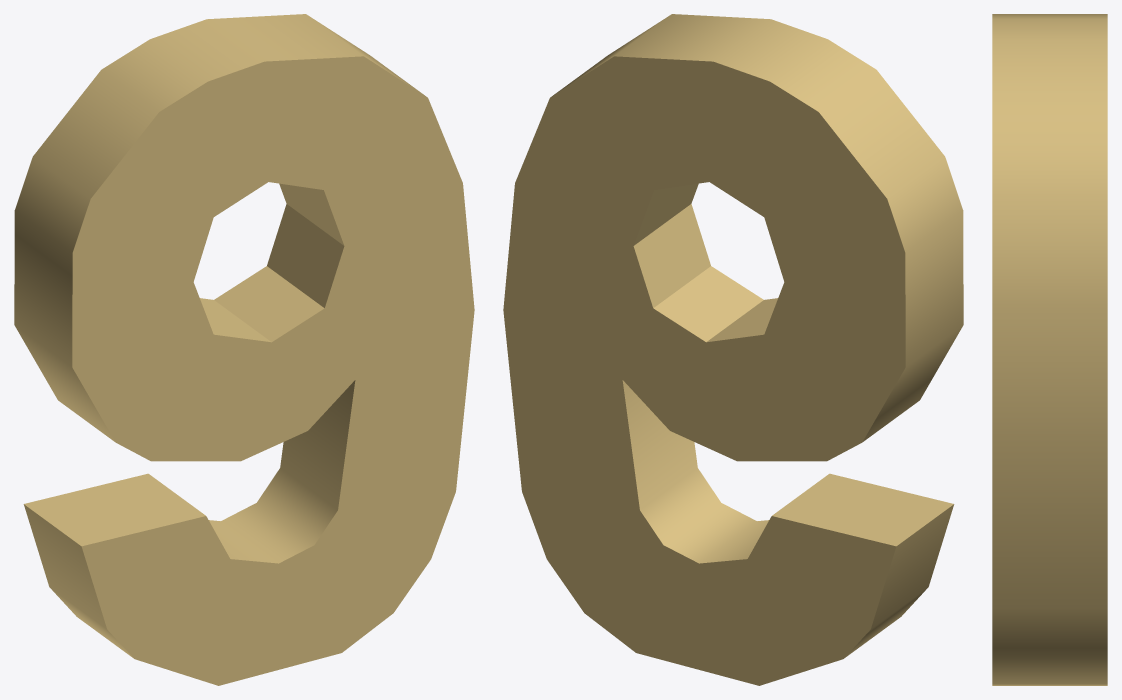
Rendered from kr_num_9.glb.
3 views of the same model, side by side, from view 1: azimuth 30°, elevation 25°; view 2: azimuth 150°, elevation 25°; view 3: azimuth 270°, elevation 25° (orthographic).
Parts seen in each view (by area): view 1: vc_m8_r2; view 2: vc_m8_r2; view 3: vc_m8_r2.
Part boxes in pixels (x1,y1,x2,y2): vc_m8_r2: [14, 14, 474, 685]; vc_m8_r2: [503, 14, 963, 685]; vc_m8_r2: [992, 14, 1107, 685].
Size of the model in its own units: 0.2408 by 0.3506 by 0.06.
